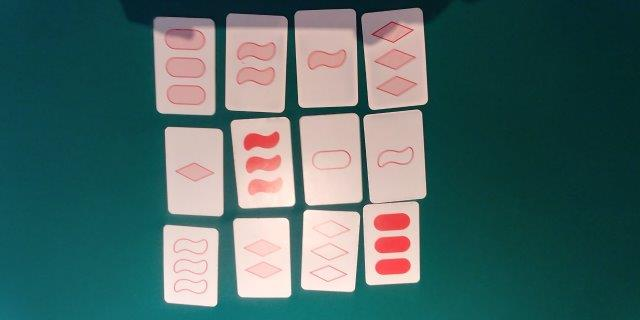1EP: (306, 117, 357, 200)
1EW: (371, 116, 420, 196)
1HD: (169, 131, 219, 210)
1HW: (298, 16, 353, 101)
2HD: (239, 220, 287, 296)
2HW: (228, 17, 282, 108)
3ED: (305, 214, 353, 288)
3EW: (166, 229, 215, 302)
3FP: (368, 207, 416, 281)
3FW: (238, 121, 286, 203)
3HD: (368, 14, 421, 102)
3HP: (157, 20, 210, 112)
